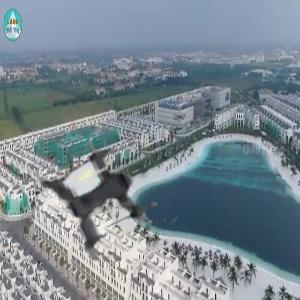drone: (28, 125, 175, 272)
